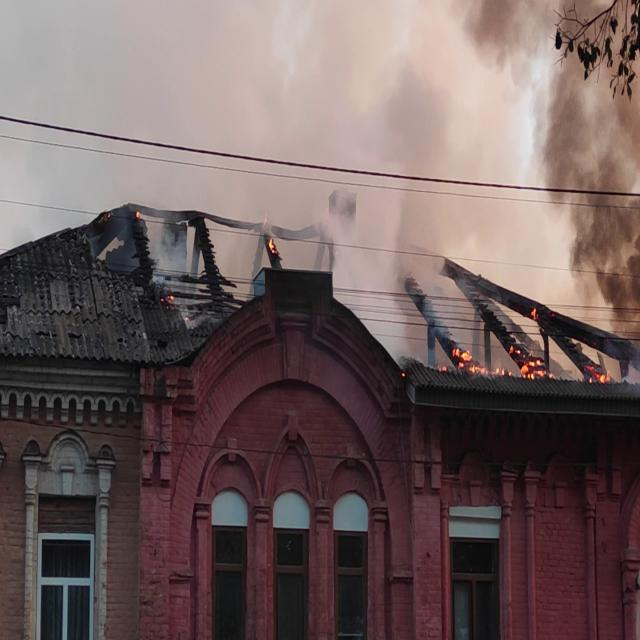fire: (457, 342, 488, 375), (520, 353, 552, 379)
smoke: (581, 140, 640, 273), (348, 207, 392, 319)
